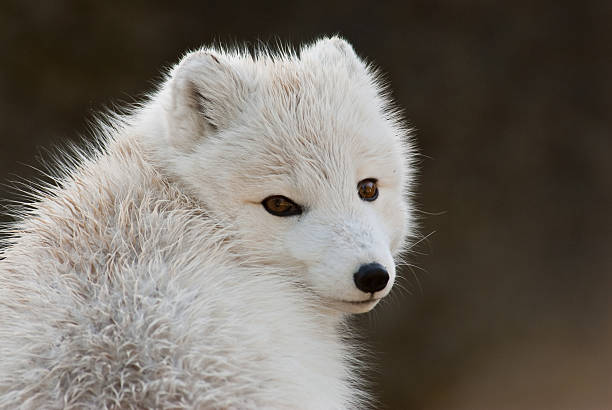arcticfox: (211, 100, 388, 309)
